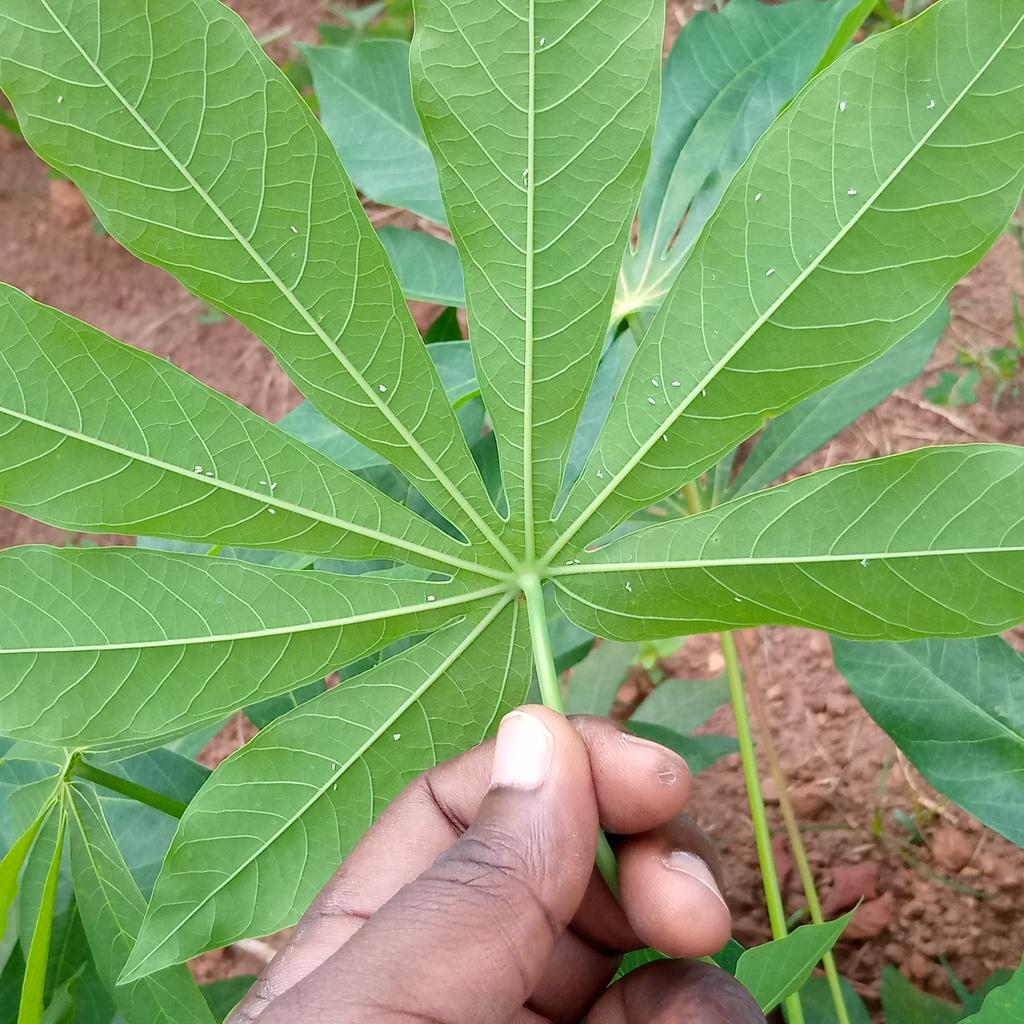adult: (860, 558, 870, 567), (765, 268, 775, 277), (378, 384, 387, 393), (538, 36, 546, 46), (596, 470, 604, 479), (927, 100, 935, 109), (753, 193, 762, 201), (194, 466, 203, 474), (625, 582, 632, 592), (839, 102, 846, 112), (847, 188, 857, 195), (290, 225, 298, 233), (269, 482, 277, 490), (393, 733, 401, 741), (651, 379, 659, 387), (648, 397, 656, 405), (671, 381, 681, 387), (268, 508, 276, 515), (427, 595, 435, 602), (734, 596, 742, 603), (57, 95, 63, 103), (205, 471, 213, 477), (701, 389, 707, 397), (331, 763, 337, 771), (259, 480, 267, 486), (662, 434, 668, 442), (574, 558, 581, 564), (523, 169, 528, 176), (334, 783, 338, 791), (524, 178, 528, 186), (566, 561, 573, 564)
